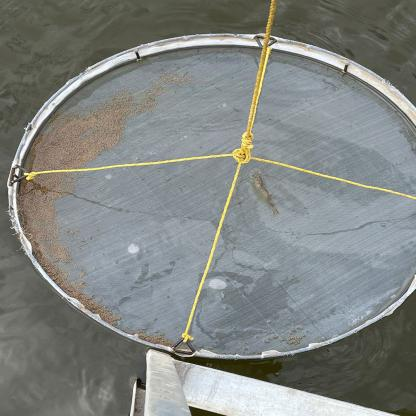shrimp: (250, 170, 281, 216)
